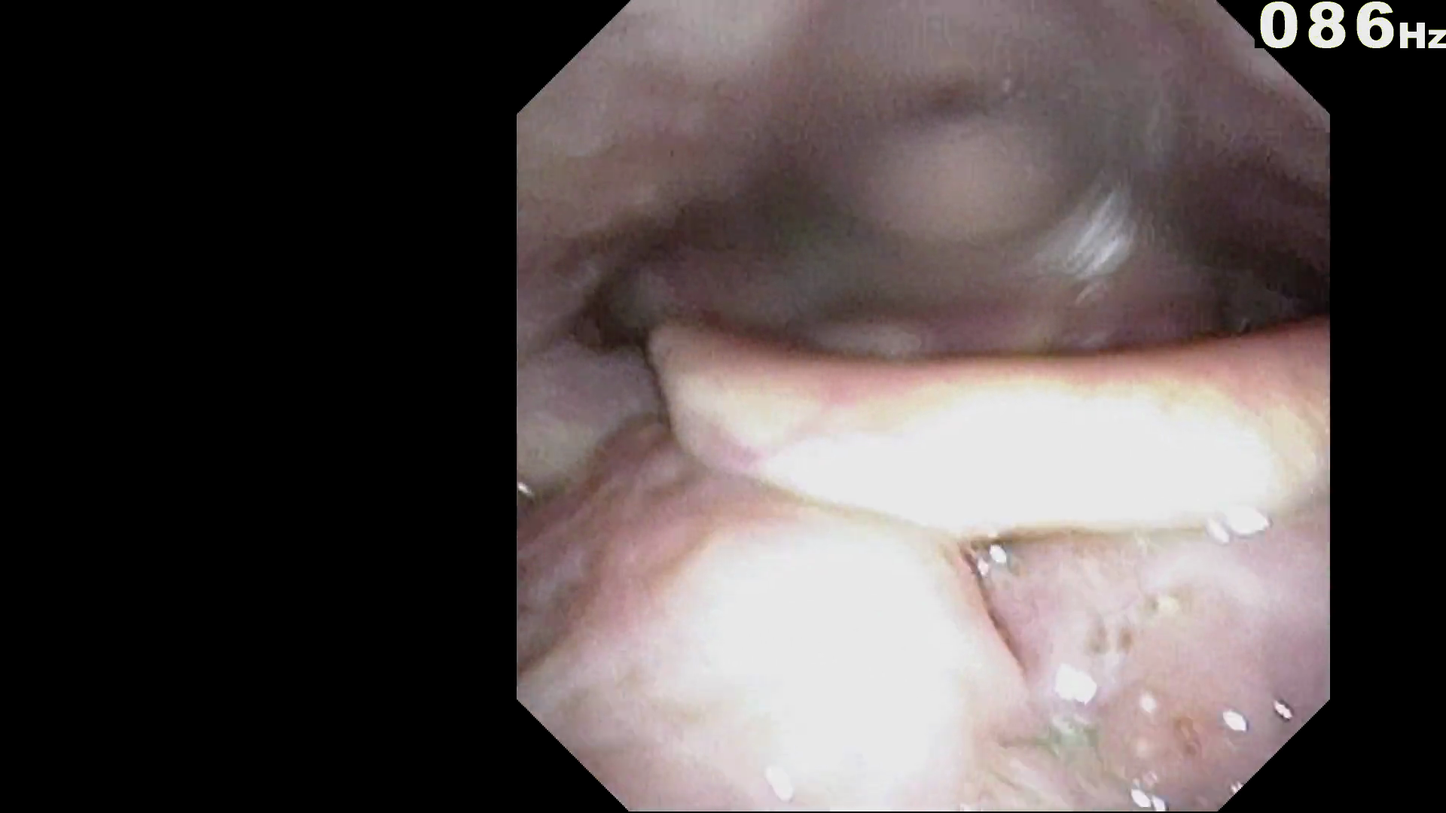epiglottis: (648, 305, 1318, 530)
